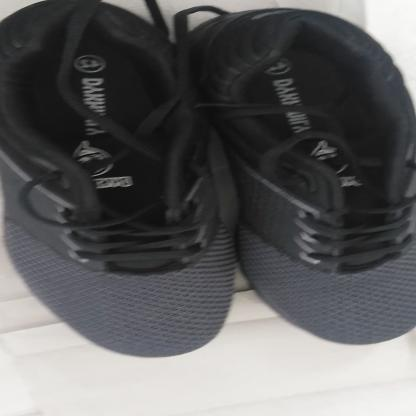safety-shoe: (2, 0, 416, 362)
